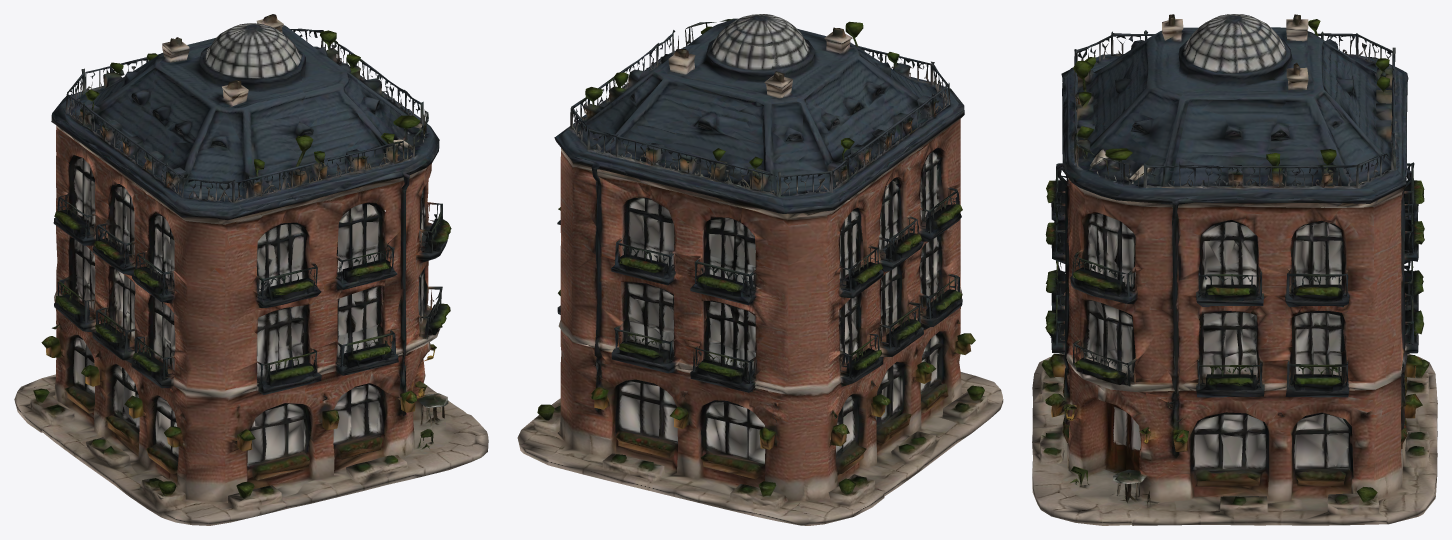
File: hotelcnr_lod1.glb
The picture shows the model from 3 angles, left to right: view 1: azimuth 30°, elevation 25°; view 2: azimuth 150°, elevation 25°; view 3: azimuth 270°, elevation 25°; orthographic projection. The views are drawn at different scales.
Visible parts, largest first — view 1: tripo_node_49c90adb-3e5c-4162-a032-27ce738b3c23; view 2: tripo_node_49c90adb-3e5c-4162-a032-27ce738b3c23; view 3: tripo_node_49c90adb-3e5c-4162-a032-27ce738b3c23.
Part boxes in pixels (bbox=[...]): tripo_node_49c90adb-3e5c-4162-a032-27ce738b3c23: bbox=[14, 14, 488, 525]; tripo_node_49c90adb-3e5c-4162-a032-27ce738b3c23: bbox=[517, 14, 1003, 525]; tripo_node_49c90adb-3e5c-4162-a032-27ce738b3c23: bbox=[1032, 14, 1437, 525].
Bounding box in the file's own units: 1.06 × 1.2 × 1.05.
Materials: 1 (1 with a texture image).
